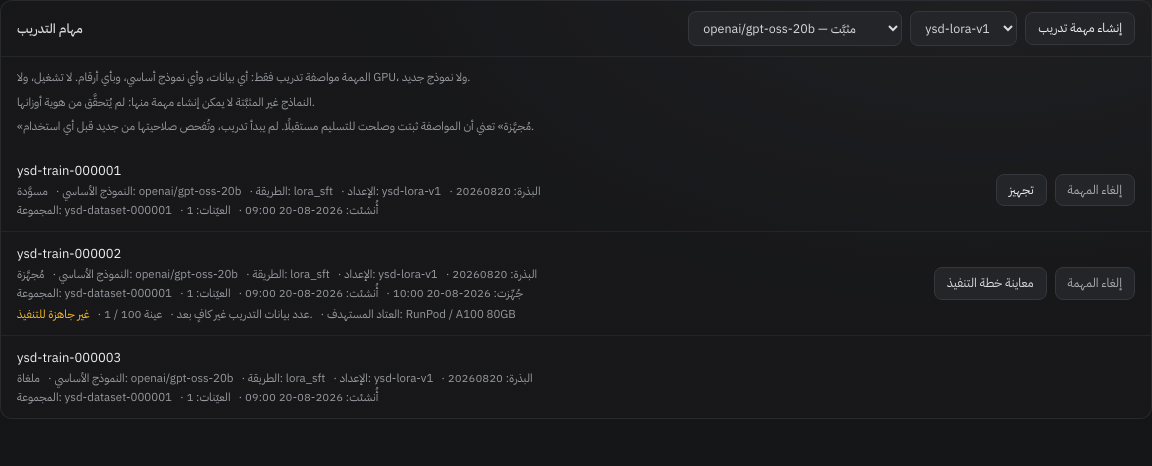
Test case: ★ (٢) الأزرار — حسب الحالة › ★ ★ ورفضُ الخادم لغير المثبَّت يُقال بوضوح
Click the button "تجهيز".
click(1021, 190)  # box [996, 174, 1047, 206]
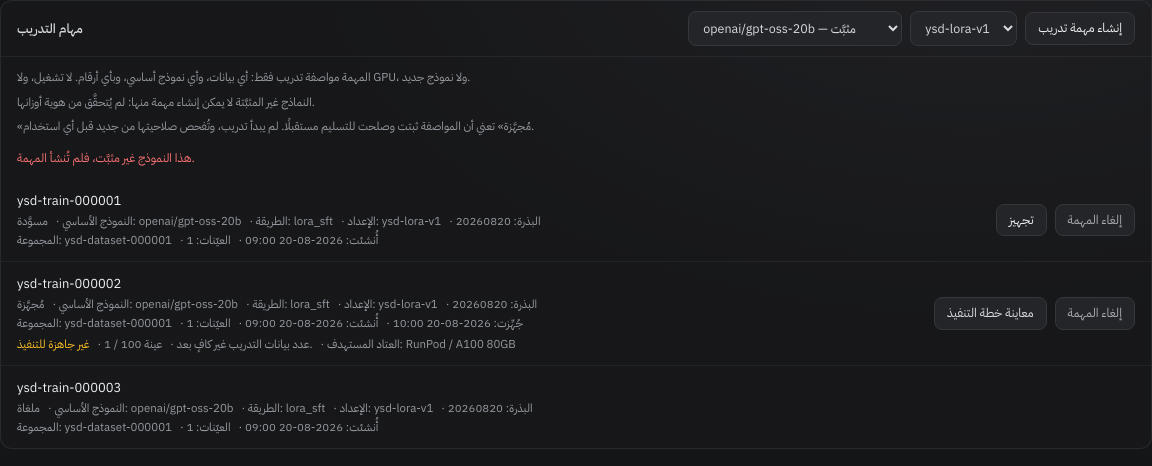
Check: the text "هذا النموذج غير مثبَّت، فلم تُنشأ المهمة" is shown, box [17, 149, 195, 167]
